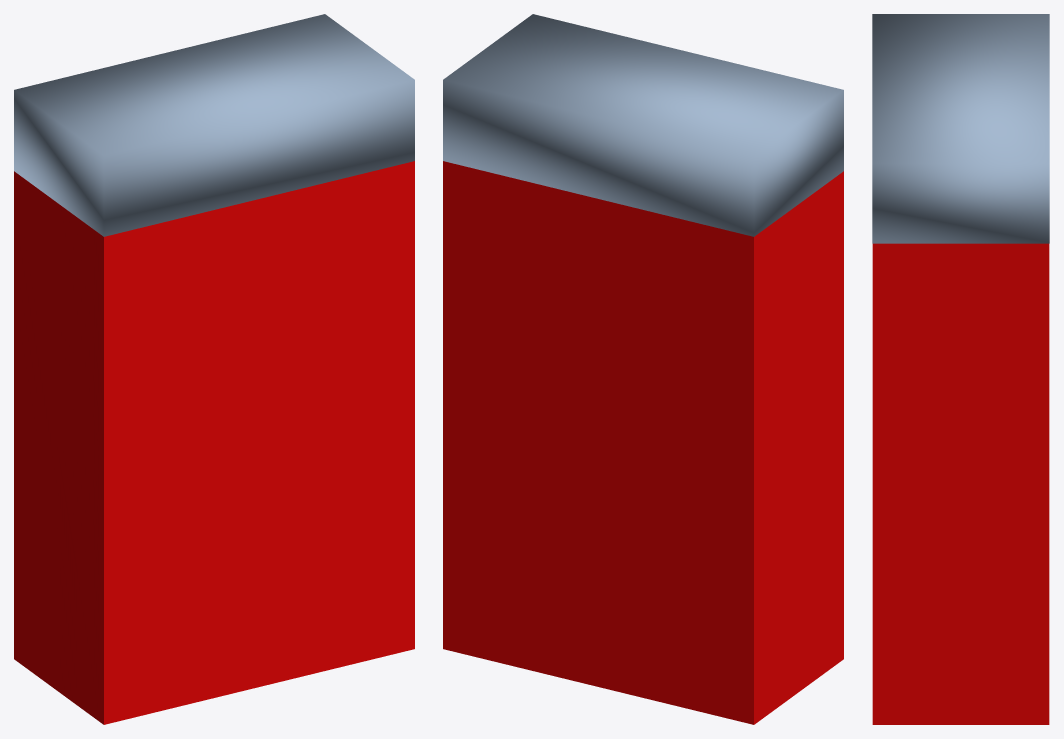
File: preview-v1.glb
The picture shows the model from 3 angles, left to right: view 1: azimuth 30°, elevation 25°; view 2: azimuth 150°, elevation 25°; view 3: azimuth 270°, elevation 25°; orthographic projection.
Visible parts, largest first — view 1: base, lid; view 2: base, lid; view 3: base, lid.
Part boxes in pixels (x1,y1,x2,y2): base: (14, 161, 414, 724); lid: (14, 14, 414, 236); base: (443, 161, 843, 724); lid: (443, 14, 843, 236); base: (872, 243, 1049, 724); lid: (872, 14, 1049, 243).
Size of the model in its own units: 4 by 7 by 2.
